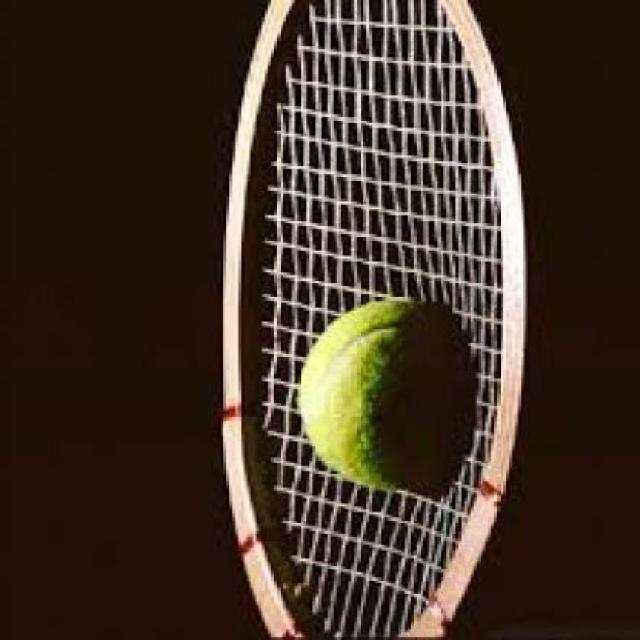Tennis_Ball: (302, 296, 464, 492)
